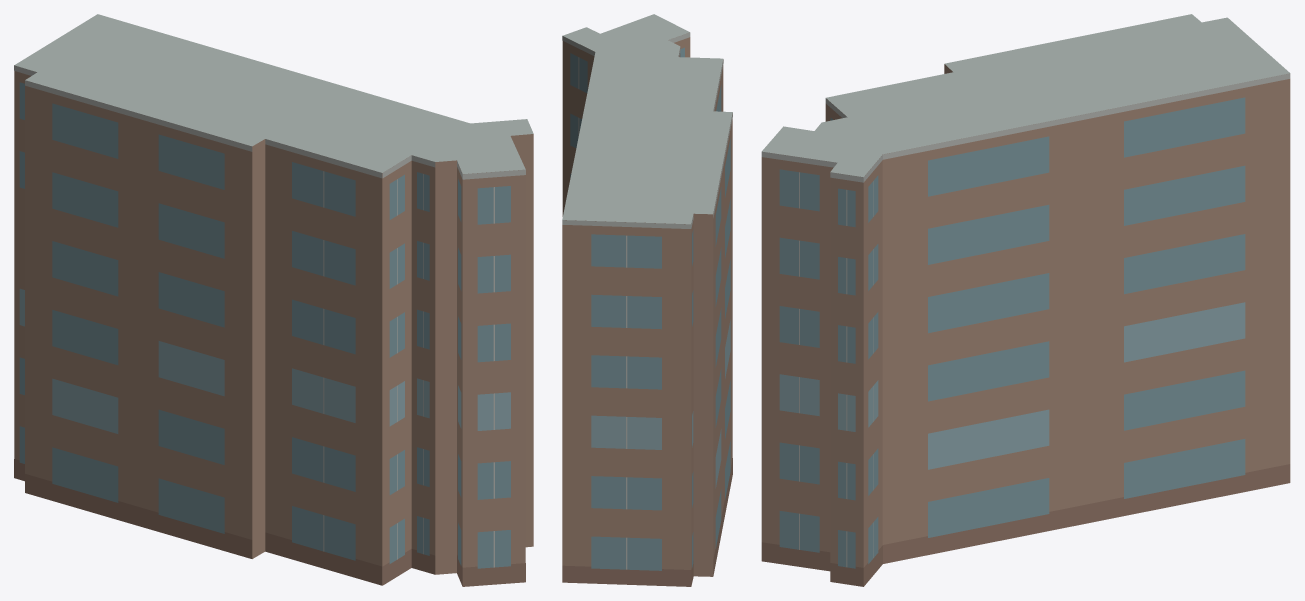
The model's file is survey-upis-32698017.glb.
3 renders of one model, left to right at view 1: azimuth 30°, elevation 25°; view 2: azimuth 150°, elevation 25°; view 3: azimuth 270°, elevation 25°, orthographic. The views are drawn at different scales.
Visible parts, largest first — view 1: survey-upis-32698017.tmp; view 2: survey-upis-32698017.tmp; view 3: survey-upis-32698017.tmp.
Part boxes in pixels (x1=…): survey-upis-32698017.tmp: x1=14, y1=14, x2=533, y2=586; survey-upis-32698017.tmp: x1=562, y1=14, x2=732, y2=586; survey-upis-32698017.tmp: x1=761, y1=14, x2=1290, y2=586.
Size of the model in its own units: 15.64 by 18.3 by 21.42.
